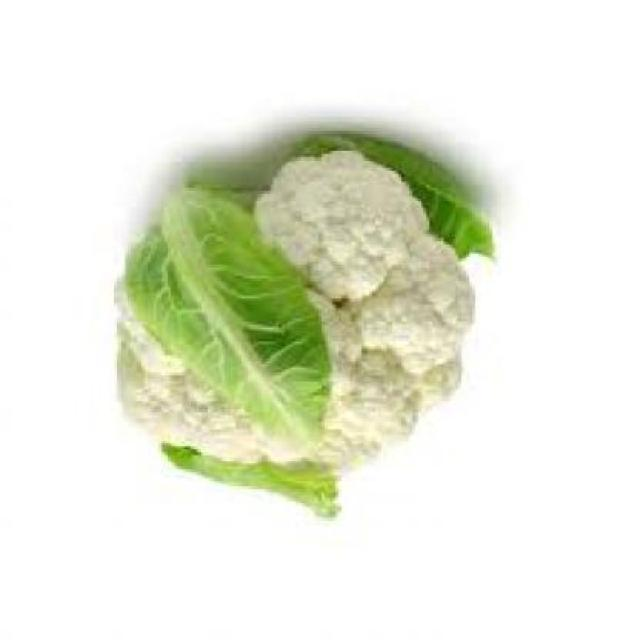BIODEGRADABLE: (111, 133, 492, 521)
